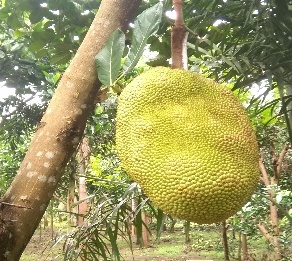Mit: (114, 66, 261, 223)
